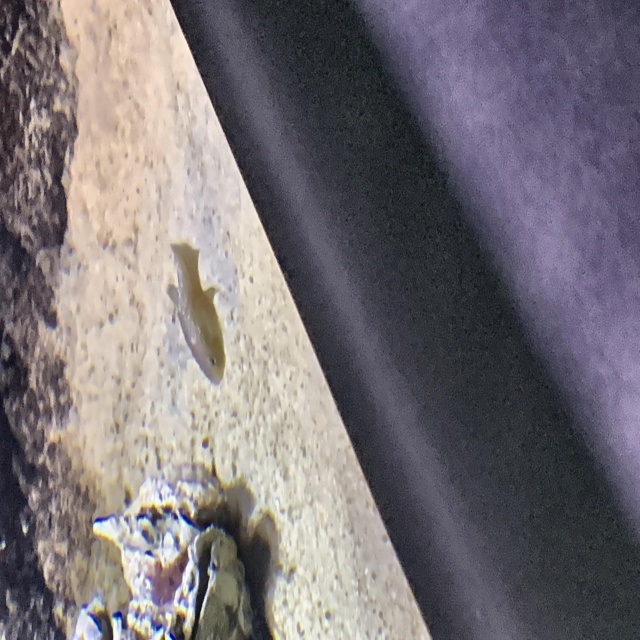fish: (160, 239, 226, 384)
